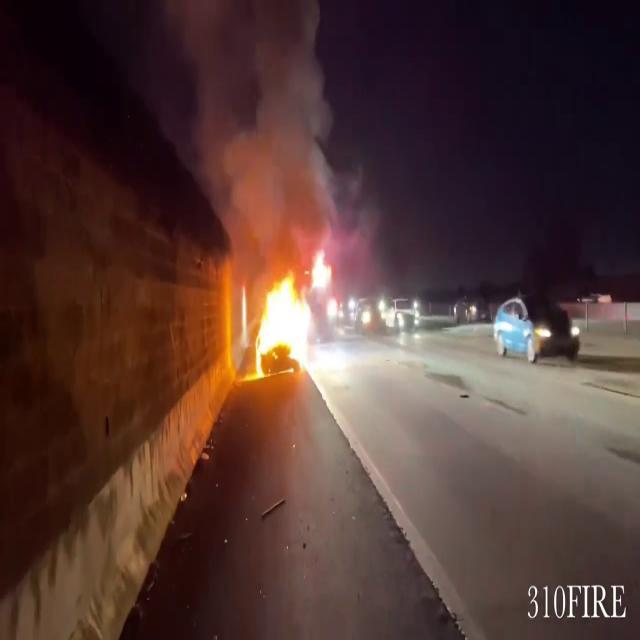Fire: (240, 244, 340, 379)
Smoke: (192, 0, 356, 257)
